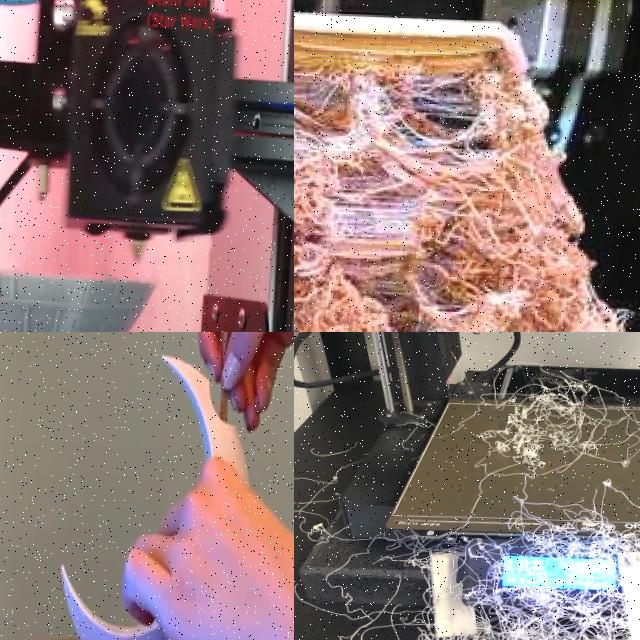spaghetti: (294, 30, 623, 332), (296, 522, 640, 640), (487, 368, 640, 471)
